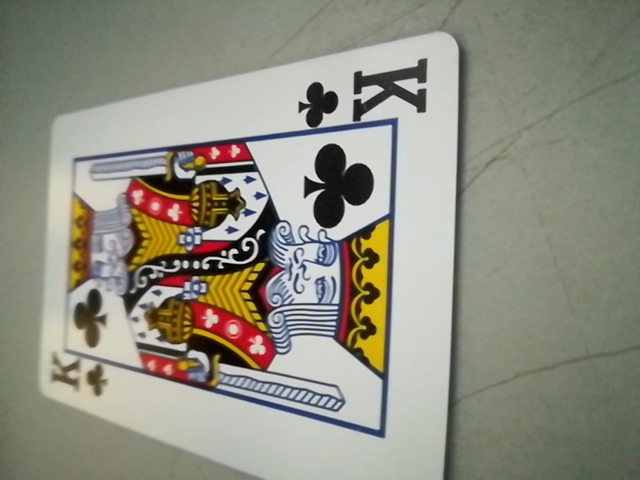mh k: (294, 57, 440, 133), (38, 345, 110, 401)
